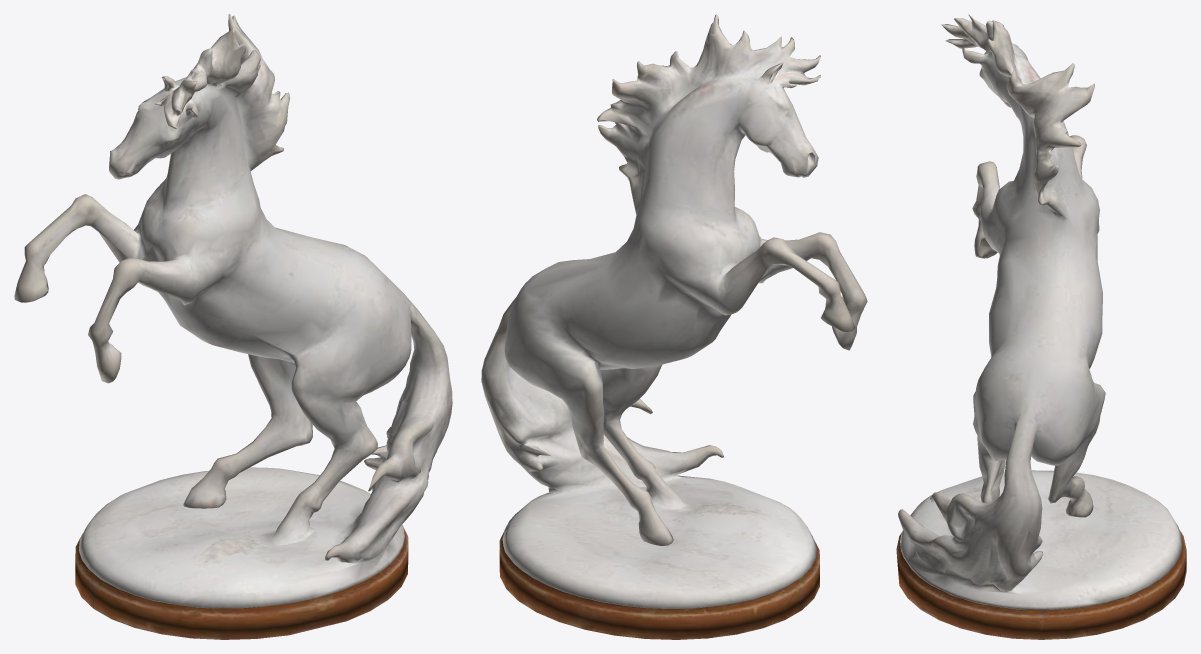
File: horse_statue_01.glb
The picture shows the model from 3 angles, left to right: view 1: azimuth 30°, elevation 25°; view 2: azimuth 150°, elevation 25°; view 3: azimuth 270°, elevation 25°; orthographic projection. The views are drawn at different scales.
Parts seen in each view (by area): view 1: horse_statue_01; view 2: horse_statue_01; view 3: horse_statue_01.
Boxes of the visible parts, x1=… form: horse_statue_01: x1=14, y1=14, x2=452, y2=639; horse_statue_01: x1=481, y1=14, x2=867, y2=639; horse_statue_01: x1=896, y1=14, x2=1186, y2=639.
Bounding box in the file's own units: 0.1638 × 0.22 × 0.1078.
1 material, 1 textured.
